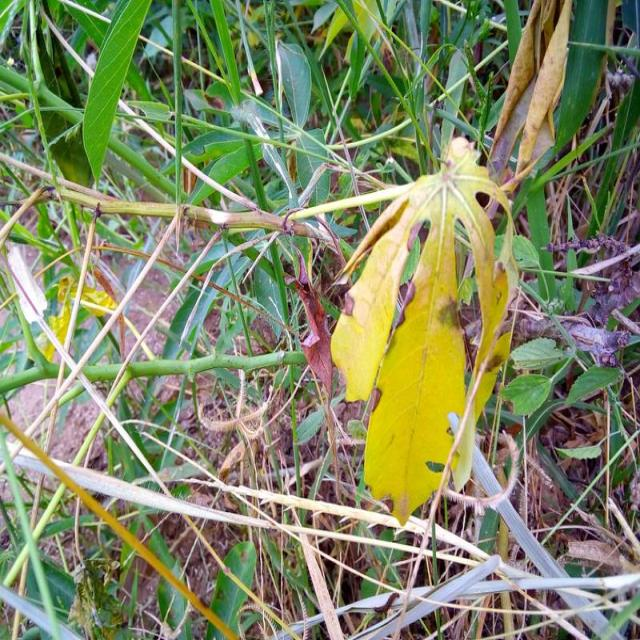cassava leaf: (328, 137, 517, 528)
